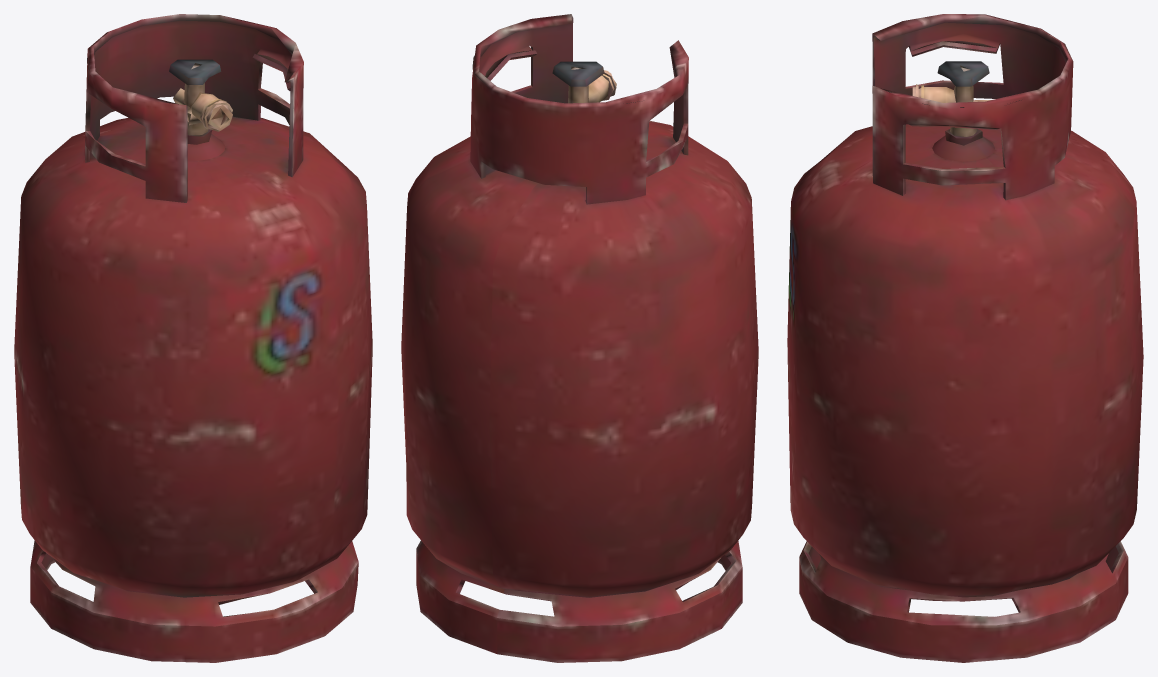
File: propane_tank.glb
3 views of the same model, side by side, from view 1: azimuth 30°, elevation 25°; view 2: azimuth 150°, elevation 25°; view 3: azimuth 270°, elevation 25° (orthographic).
Visible parts, largest first — view 1: propane_tank; view 2: propane_tank; view 3: propane_tank.
Part boxes in pixels (x1=…): propane_tank: x1=14, y1=14, x2=372, y2=662; propane_tank: x1=401, y1=14, x2=758, y2=662; propane_tank: x1=787, y1=14, x2=1143, y2=662.
Size of the model in its own units: 0.3341 by 0.5537 by 0.3341.
1 material, 1 textured.
